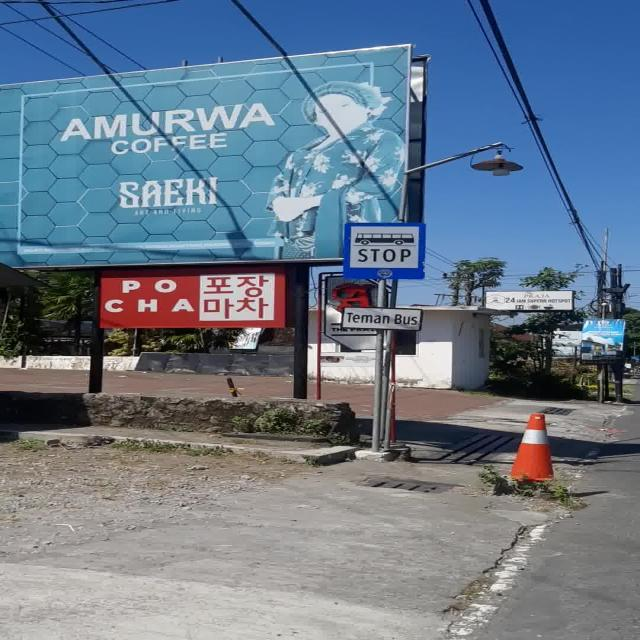Pemberhentian Bus: (342, 222, 425, 280)
